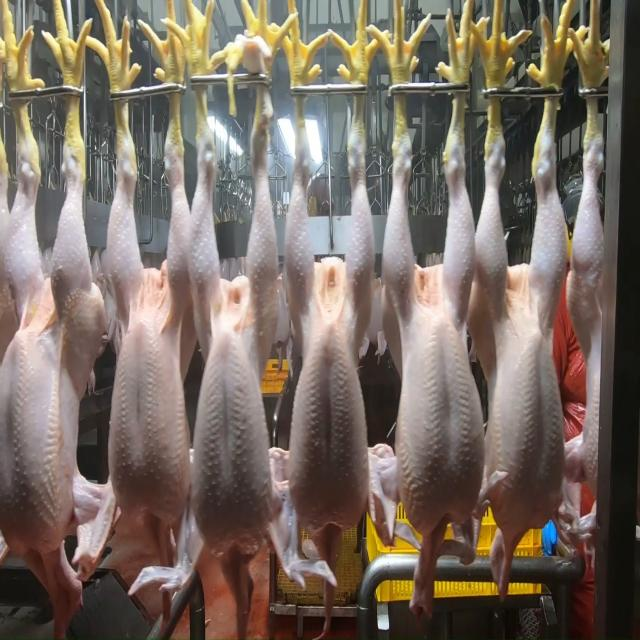chicken: (380, 129, 485, 539), (2, 142, 102, 556), (185, 120, 278, 563), (475, 120, 570, 535), (288, 137, 376, 539), (106, 112, 190, 532)
